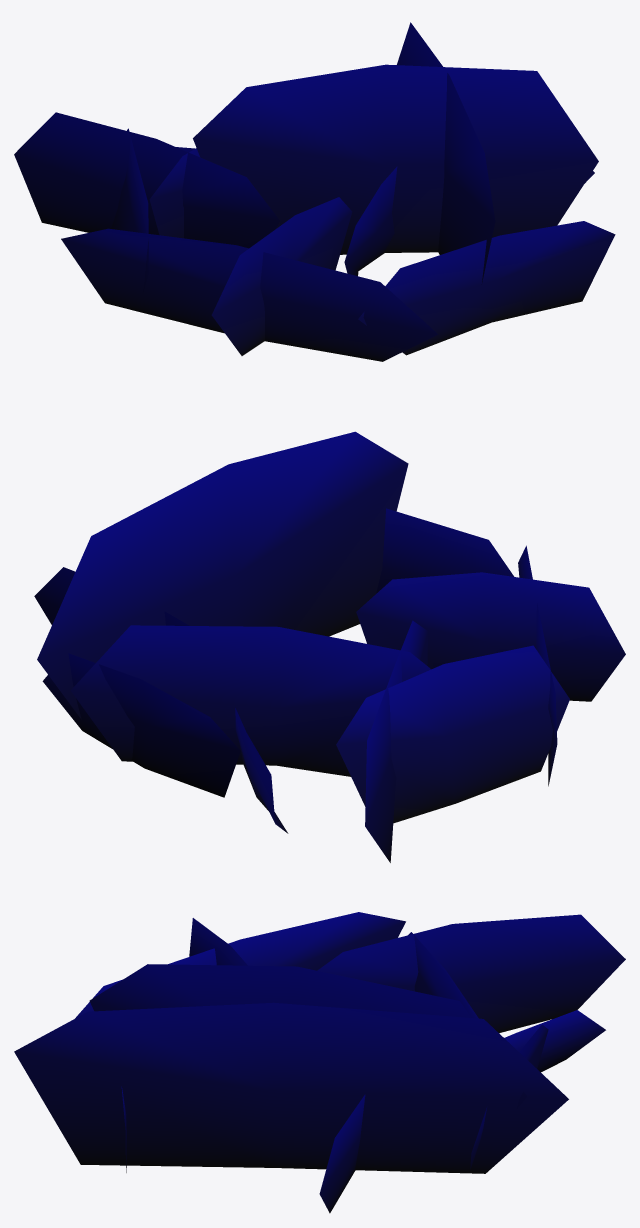
File: SM_Grass_XS_Patch_M_05.fbx
3 renders of one model, top to bottom at view 1: azimuth 30°, elevation 25°; view 2: azimuth 150°, elevation 25°; view 3: azimuth 270°, elevation 25°, orthographic. The views are drawn at different scales.
Visible parts, largest first — view 1: SM_Grass_XS_Patch_M_05; view 2: SM_Grass_XS_Patch_M_05; view 3: SM_Grass_XS_Patch_M_05.
Part boxes in pixels (bbox=[...]): SM_Grass_XS_Patch_M_05: bbox=[14, 22, 615, 361]; SM_Grass_XS_Patch_M_05: bbox=[34, 431, 625, 862]; SM_Grass_XS_Patch_M_05: bbox=[14, 912, 625, 1213].
Bounding box in the file's own units: 77.71 × 80.89 × 28.48.
